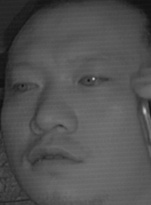eye: (78, 70, 110, 91), (11, 76, 39, 96)
mouth: (25, 141, 82, 172)
